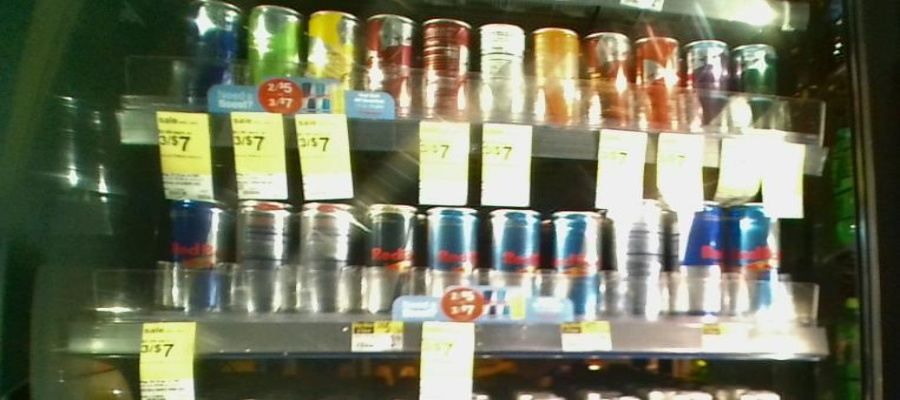bottle: (167, 190, 231, 314), (295, 190, 356, 320), (360, 197, 421, 318), (547, 203, 609, 319), (237, 192, 291, 320), (485, 201, 541, 322), (426, 198, 480, 323), (362, 4, 418, 121), (304, 3, 359, 119), (677, 198, 727, 325), (244, 1, 298, 118), (617, 197, 669, 318), (733, 199, 782, 320), (531, 22, 585, 129), (190, 1, 239, 115), (420, 10, 472, 117), (639, 23, 685, 135), (477, 17, 524, 126), (591, 26, 635, 132), (736, 29, 777, 140), (689, 25, 728, 136)
